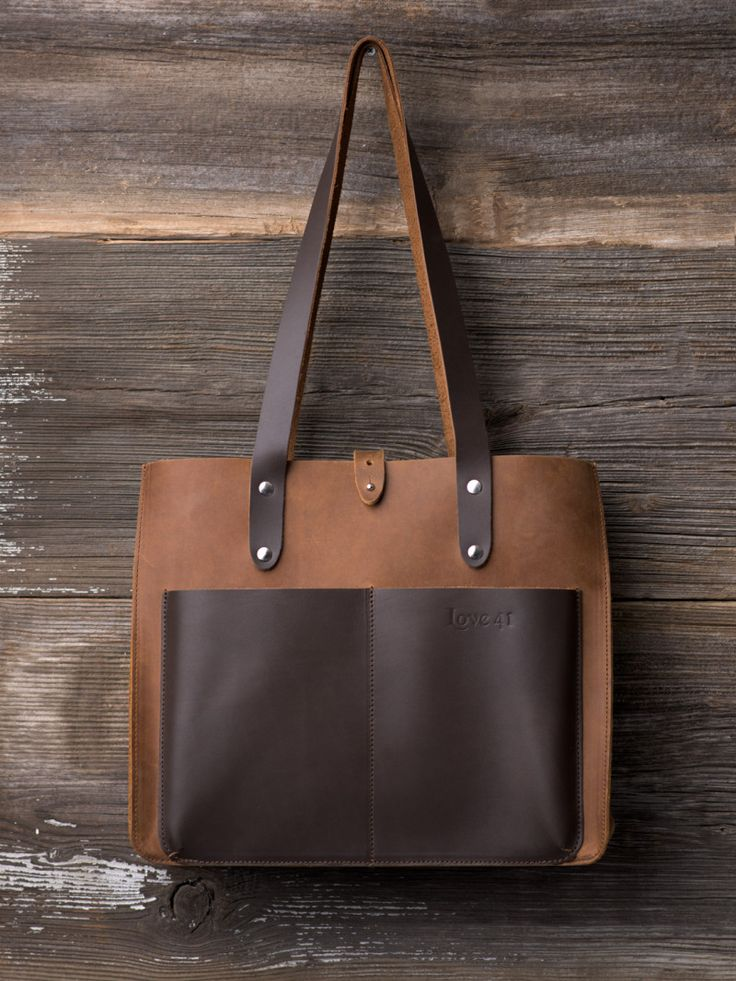cuero: (127, 37, 615, 862)
